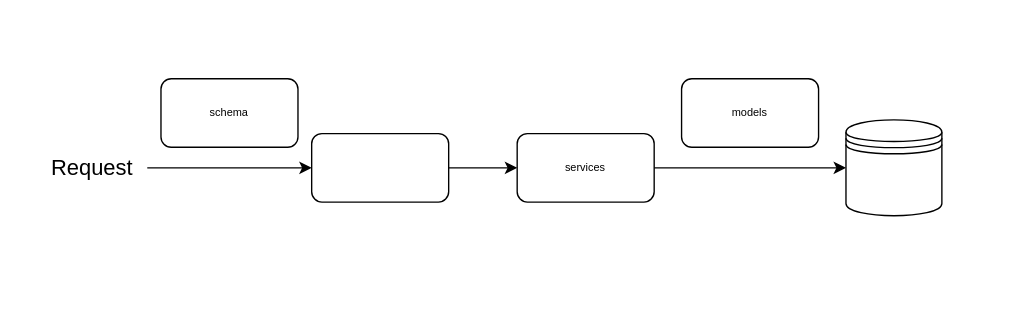
This 1033x334 diagram has some shape labels left out. The shapes that lost their labels are listed below. From the top down, each one's box as (x1, y1, x2, y2) in pixels, then its label:
(310, 132, 449, 202): routers
(845, 119, 942, 216): DB
